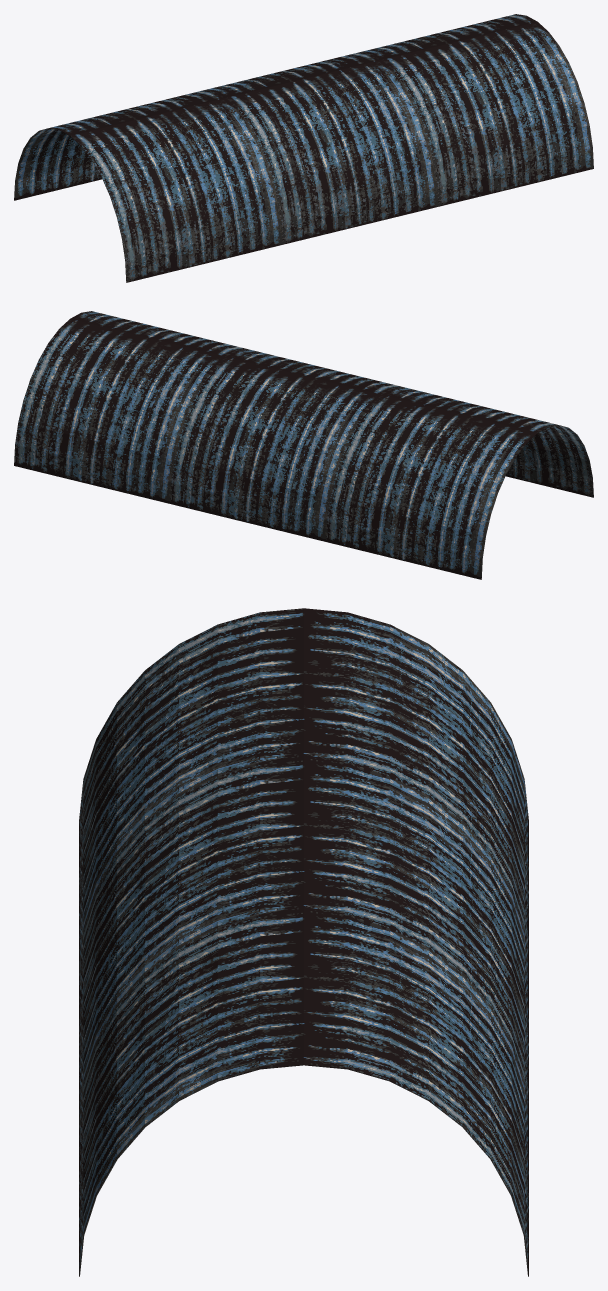
Rendered from SM_EU_MetalTunnel_1.001.fbx.
3 renders of one model, top to bottom at view 1: azimuth 30°, elevation 25°; view 2: azimuth 150°, elevation 25°; view 3: azimuth 270°, elevation 25°, orthographic. The views are drawn at different scales.
Visible parts, largest first — view 1: SM_EU_MetalTunnel_1.001; view 2: SM_EU_MetalTunnel_1.001; view 3: SM_EU_MetalTunnel_1.001.
Part boxes in pixels (x1,y1,x2,y2): SM_EU_MetalTunnel_1.001: (14,14,593,282); SM_EU_MetalTunnel_1.001: (14,311,593,579); SM_EU_MetalTunnel_1.001: (79,608,528,1276).
Bounding box in the file's own units: 12 × 5 × 2.6.
